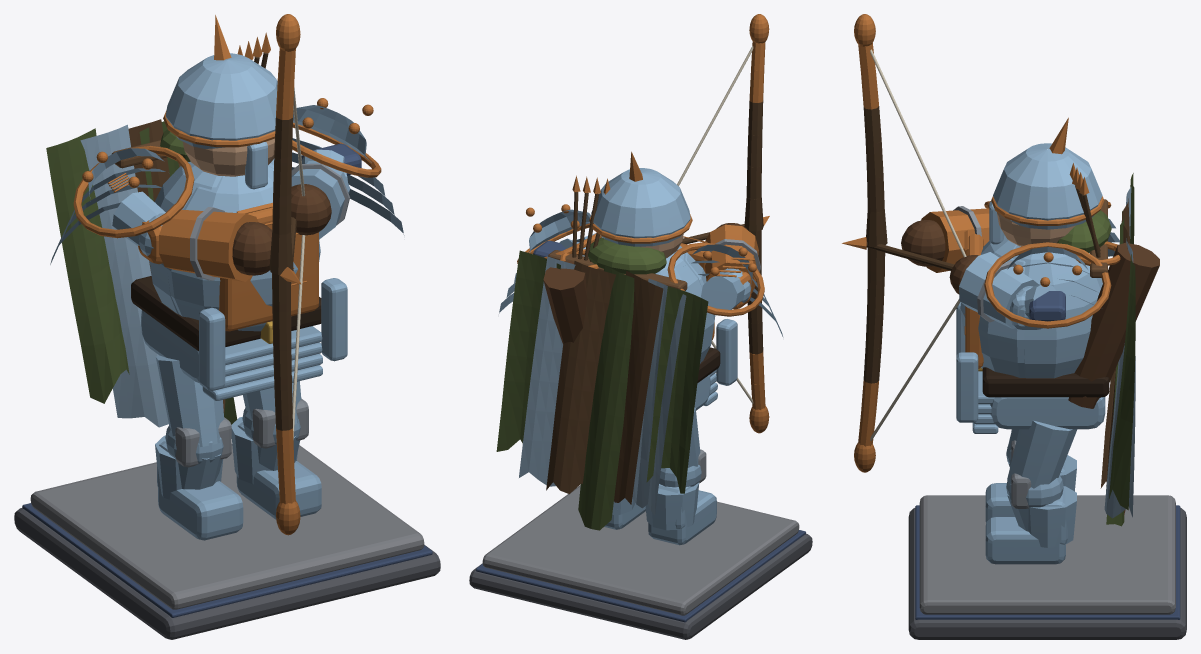
Rendered from archer.glb.
3 views of the same model, side by side, from view 1: azimuth 30°, elevation 25°; view 2: azimuth 150°, elevation 25°; view 3: azimuth 270°, elevation 25° (orthographic). The views are drawn at different scales.
Visible parts, largest first — view 1: powder, lstone, copper, green, stone, powderCloth, dwood, owner, steel, leather, dleather, camoBrown (+2 smaller); view 2: green, lstone, powder, camoBrown, powderCloth, copper, stone, dwood, owner, leather, bone, steel; view 3: powder, lstone, copper, stone, leather, dwood, green, owner, dleather, powderCloth, camoBrown, bone (+2 smaller).
Boxes of the visible parts, x1,y1,x2,y2 form: powder: (50, 53, 404, 540); lstone: (30, 444, 424, 609); copper: (73, 14, 381, 535); green: (46, 121, 237, 424); stone: (14, 508, 440, 639); powderCloth: (80, 124, 168, 427); dwood: (254, 52, 296, 430); owner: (22, 143, 432, 617); steel: (175, 163, 349, 467); leather: (232, 184, 331, 275); dleather: (131, 276, 321, 350); camoBrown: (112, 119, 225, 413); green: (496, 237, 708, 530); lstone: (482, 485, 799, 615); powder: (499, 168, 783, 545); camoBrown: (546, 250, 687, 504); powderCloth: (519, 256, 686, 515); copper: (517, 14, 769, 433); stone: (469, 533, 812, 639); dwood: (572, 100, 763, 354); owner: (476, 240, 805, 622); leather: (543, 223, 748, 344); bone: (677, 46, 753, 403); steel: (698, 239, 760, 482); powder: (956, 143, 1119, 564); lstone: (919, 495, 1175, 614); copper: (842, 14, 1120, 472); stone: (908, 507, 1186, 639); leather: (901, 220, 1159, 408); dwood: (863, 106, 1100, 383); green: (1057, 173, 1135, 526); owner: (915, 291, 1180, 619); dleather: (982, 367, 1109, 397); powderCloth: (1104, 187, 1135, 518); camoBrown: (1090, 198, 1129, 515); bone: (870, 49, 966, 440).
Size of the model in its own units: 0.9094 by 1.66 by 0.9453.
